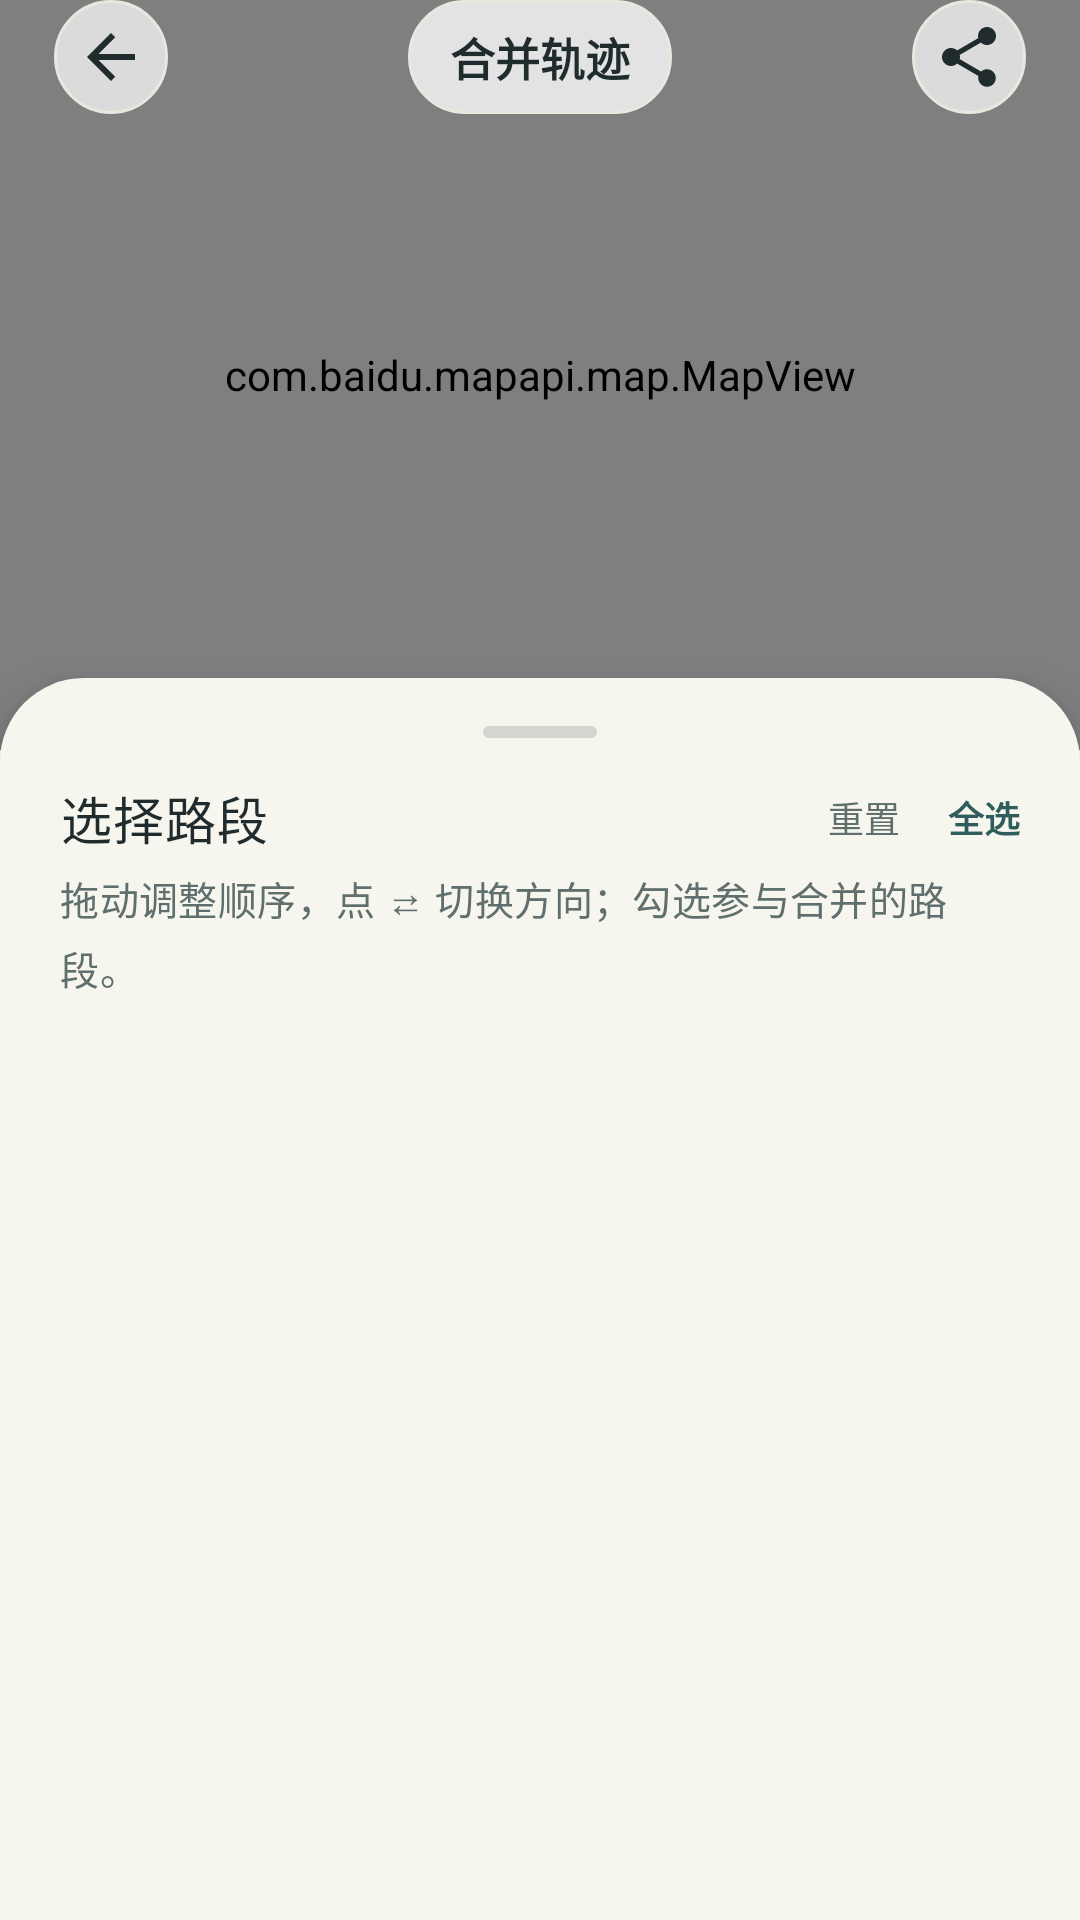

Named icons in this screenshot (1080w x 1920h) and their centers, [x,y]:
分享: [969,57]
返回: [111,57]
